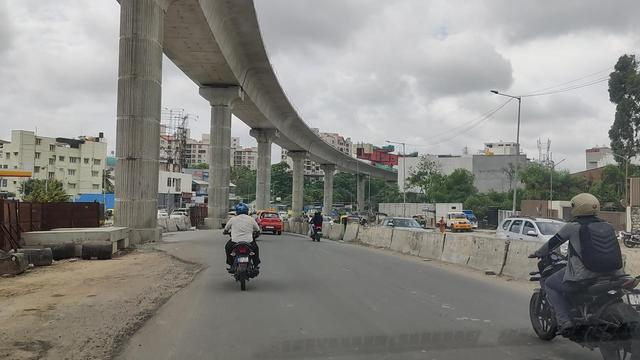LMV: (534, 198, 640, 360), (223, 203, 261, 284), (253, 211, 282, 234), (311, 211, 324, 245)
RoadDamages: (111, 295, 172, 357), (155, 245, 208, 292)
UnsurfacedRoad: (0, 271, 110, 356)
